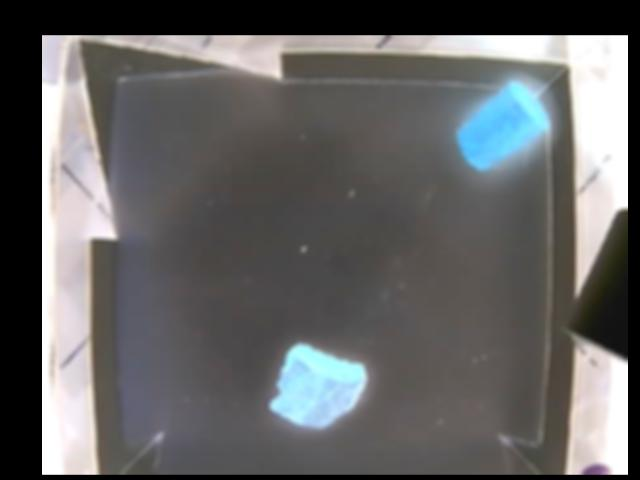Brisk: (266, 343, 366, 430)
Carrot: (454, 79, 548, 172)
